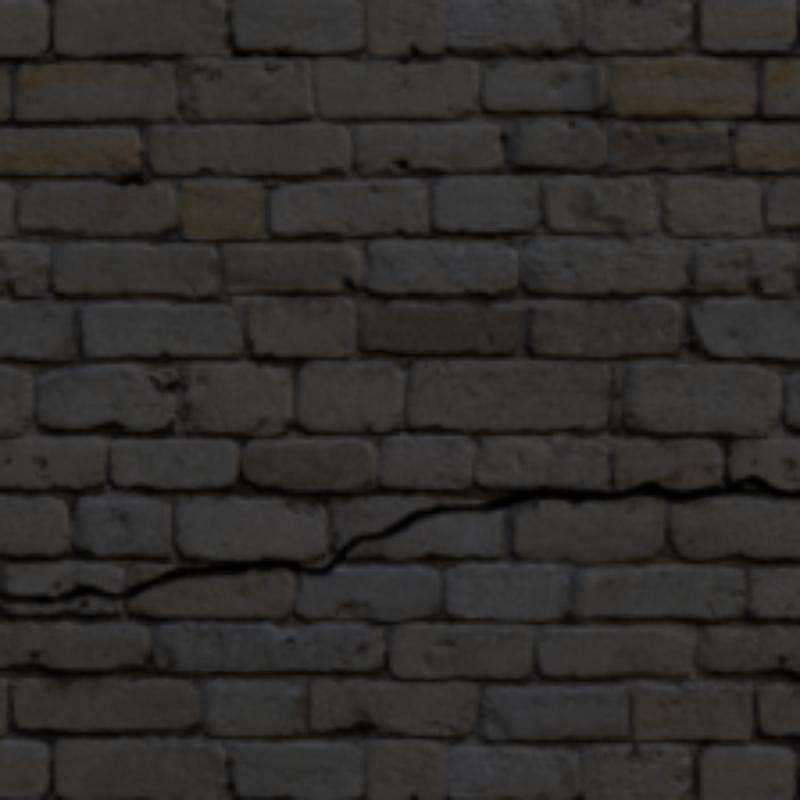crack: (0, 475, 796, 600)
